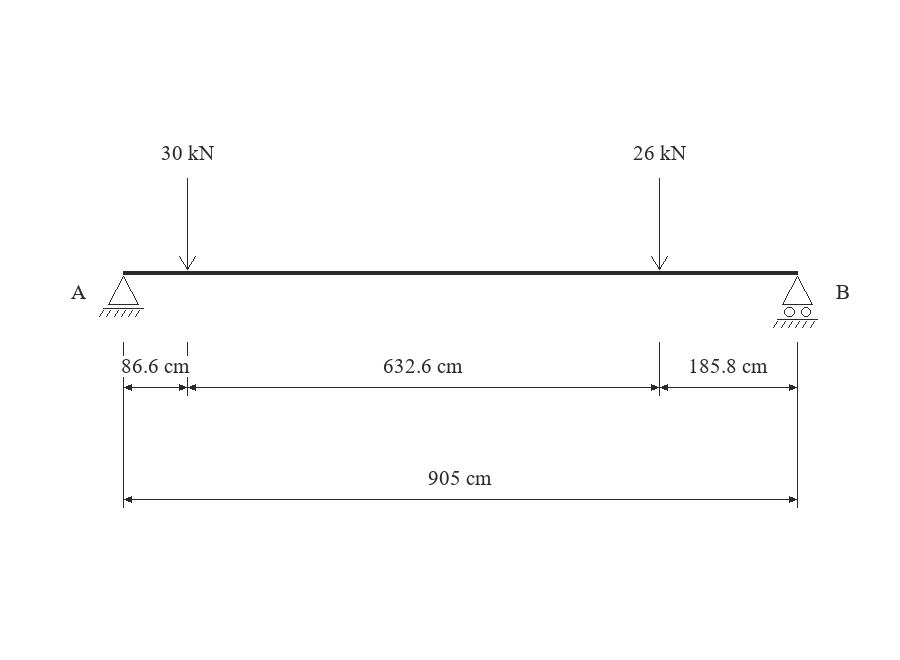pin_support: (99, 276, 144, 317)
point_load: (179, 178, 196, 270), (651, 178, 668, 270)
roller_support: (773, 276, 818, 328)
